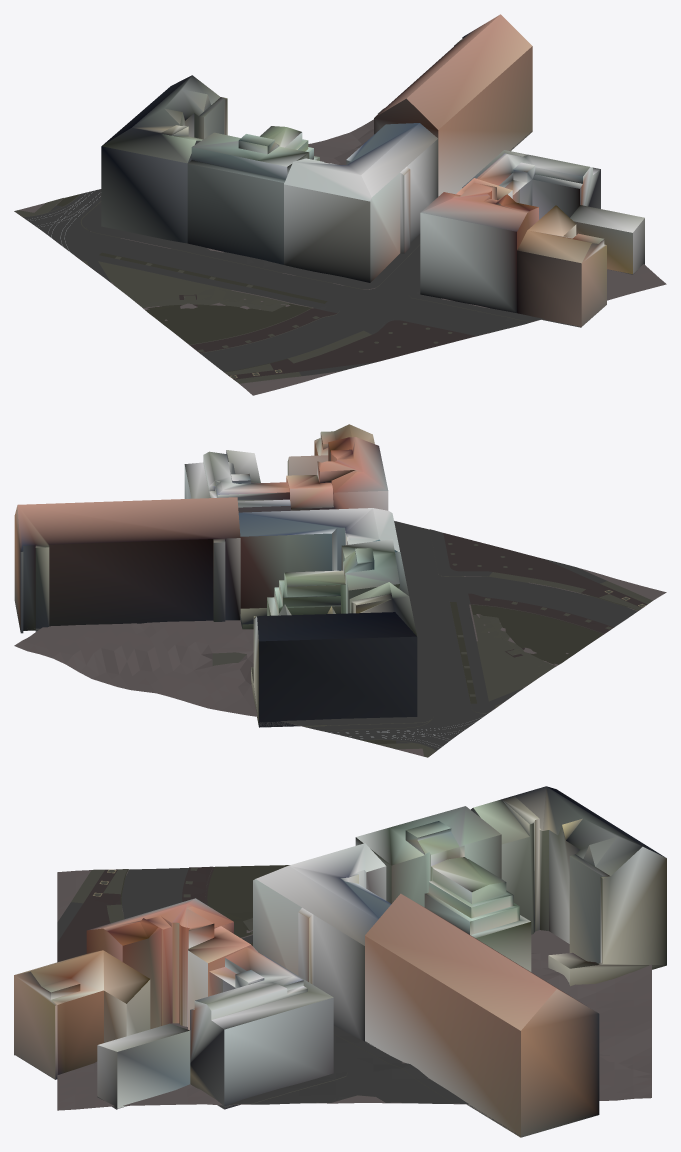
The picture shows the model from 3 angles, top to bottom: view 1: azimuth 30°, elevation 25°; view 2: azimuth 150°, elevation 25°; view 3: azimuth 270°, elevation 25°; orthographic projection. The views are drawn at different scales.
Parts seen in each view (by area): view 1: c_m09_p01; view 2: c_m09_p01; view 3: c_m09_p01.
Part boxes in pixels (<box>): c_m09_p01: <box>14,14,666,395</box>; c_m09_p01: <box>14,424,666,757</box>; c_m09_p01: <box>14,786,666,1137</box>.
Size of the model in its own units: 144 by 36.97 by 141.
